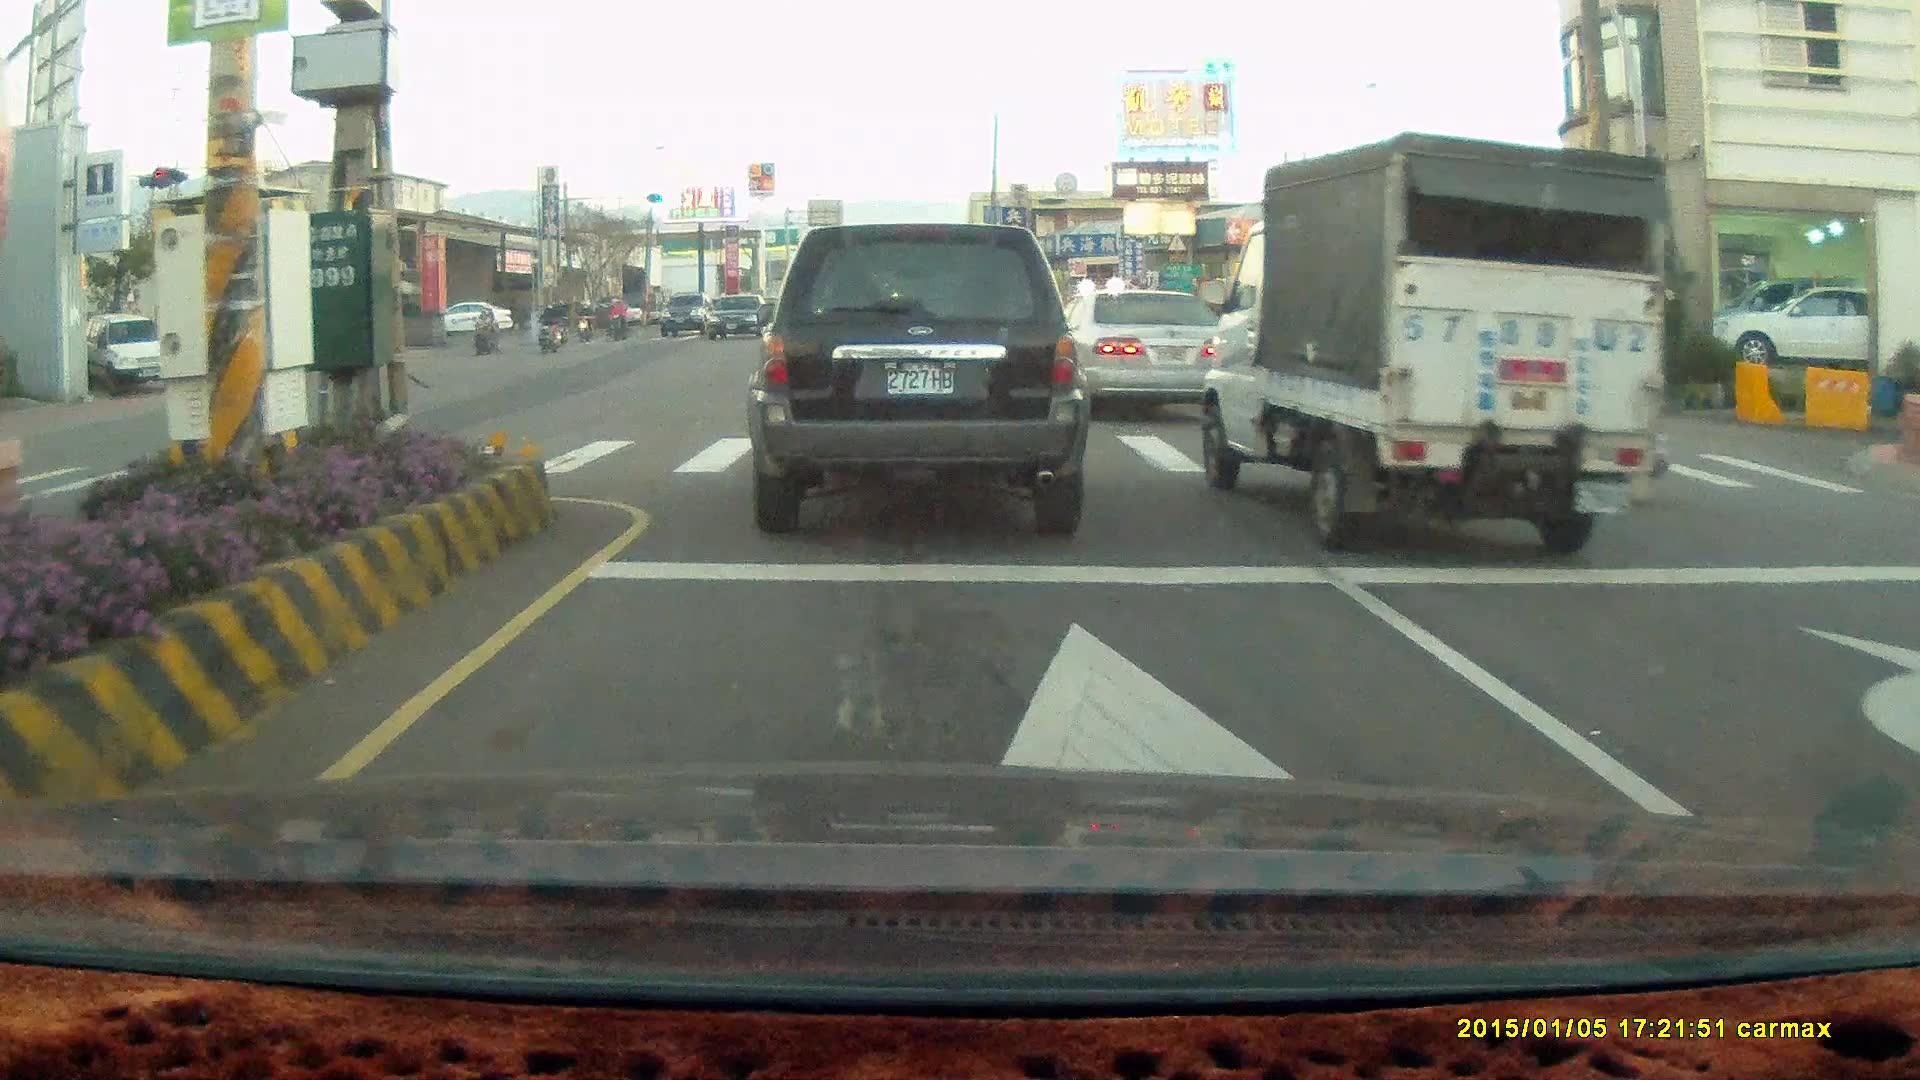rider: (468, 301, 504, 355), (534, 301, 563, 355), (572, 295, 595, 338), (606, 298, 626, 337)
vehicle: (1202, 130, 1669, 554), (744, 221, 1092, 538), (1041, 286, 1241, 420), (1060, 287, 1242, 430), (1707, 283, 1915, 378), (1720, 286, 1876, 373), (69, 314, 179, 390), (444, 301, 516, 339)
